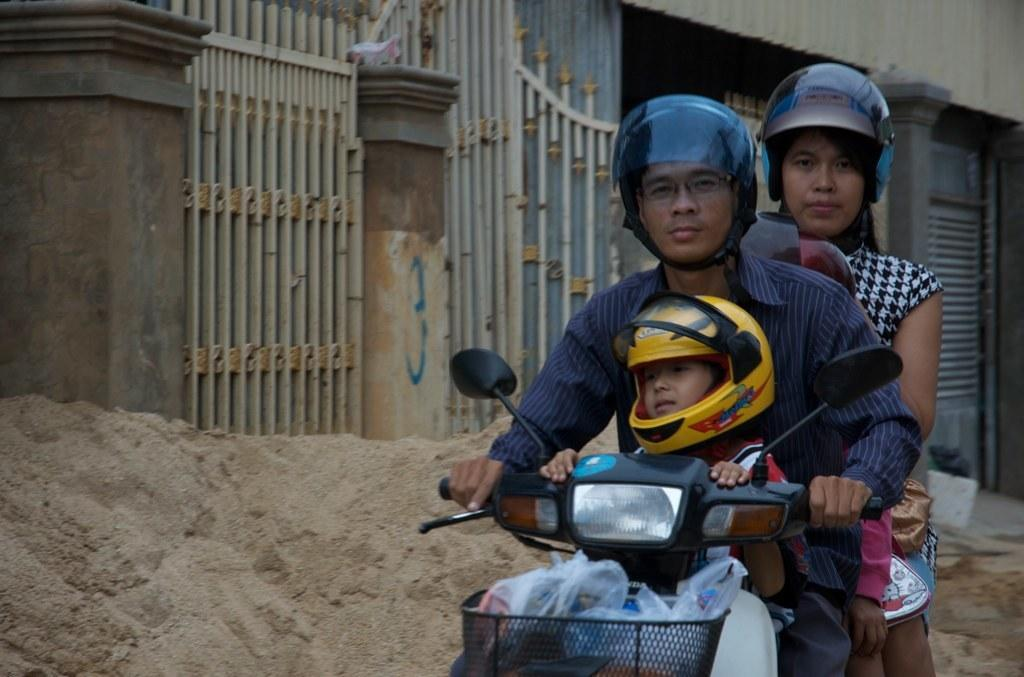helmet: (610, 287, 779, 459), (610, 92, 761, 275), (756, 61, 897, 242)
